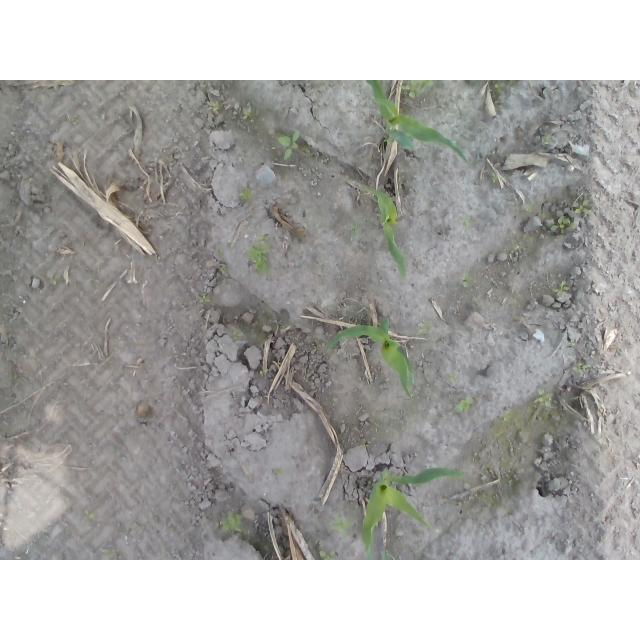Maize: (361, 466, 468, 560), (366, 81, 472, 168), (324, 317, 417, 401), (358, 183, 407, 283)
Weeds: (245, 234, 273, 272), (278, 132, 302, 160), (218, 512, 242, 539), (330, 517, 354, 542), (546, 215, 574, 233), (402, 83, 433, 98), (572, 199, 592, 218), (455, 397, 473, 415), (536, 389, 555, 406), (553, 282, 572, 298), (317, 550, 347, 560), (570, 363, 591, 377), (218, 250, 229, 275), (462, 272, 477, 289), (98, 548, 118, 560), (205, 100, 220, 114), (417, 322, 431, 337), (239, 187, 253, 201), (84, 511, 97, 522), (352, 223, 360, 240), (229, 332, 243, 341), (542, 135, 552, 146), (243, 108, 252, 120), (50, 276, 59, 287), (523, 204, 534, 213), (493, 84, 507, 91), (491, 172, 500, 182), (200, 296, 209, 305), (9, 375, 20, 382), (464, 218, 472, 227), (275, 469, 285, 476), (569, 340, 576, 349), (451, 372, 457, 381)
